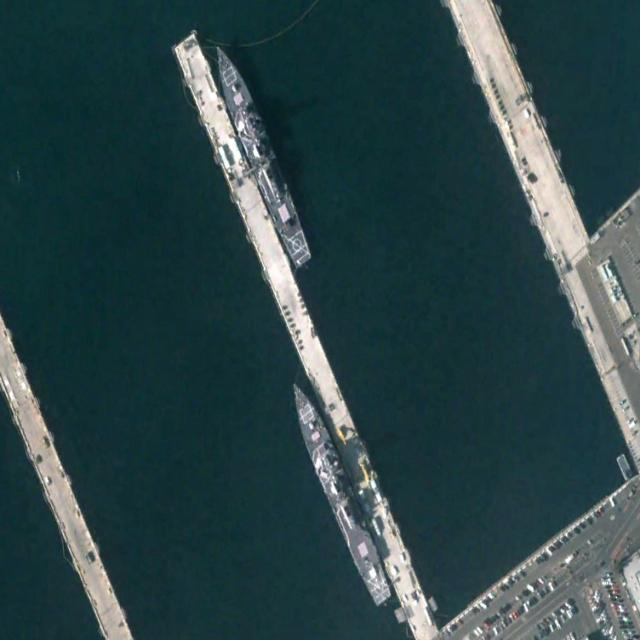Destroyer: (283, 370, 394, 612), (207, 35, 316, 274)
